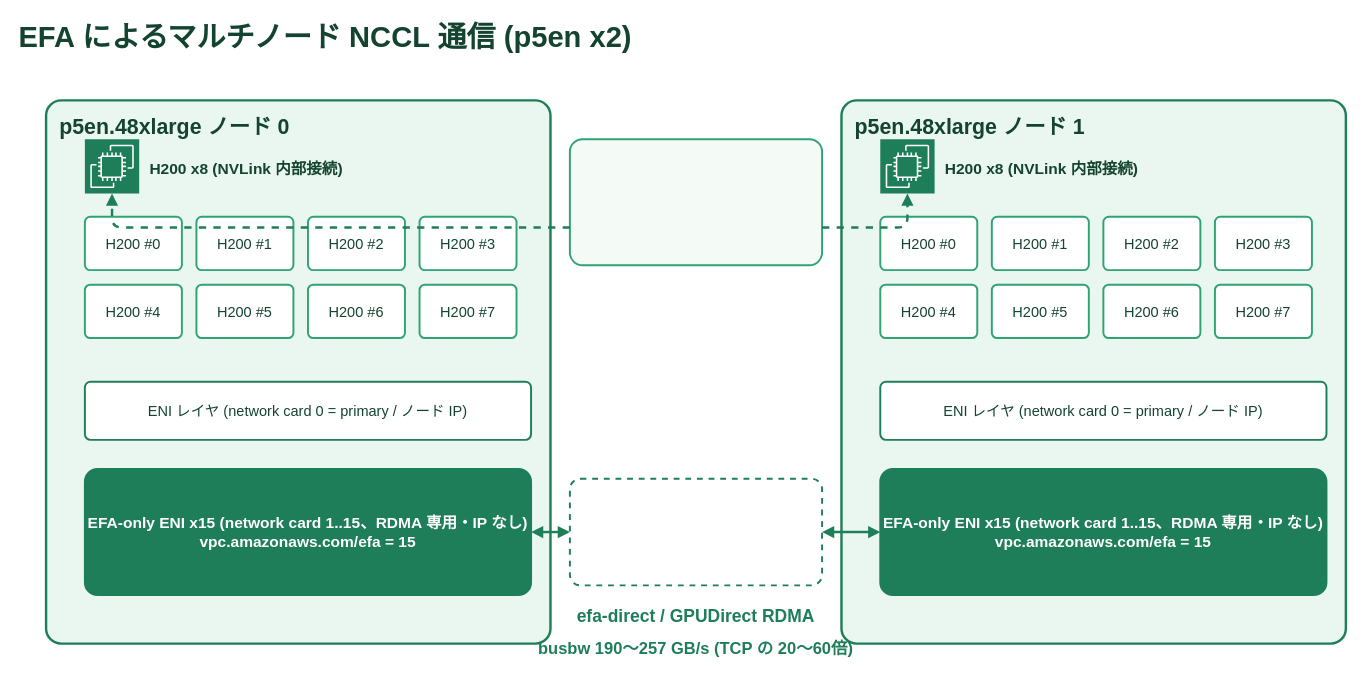
Some shapes in this 1364 by 679 pixel diagram are drawn without their labels. Each missing label, with the centre of its shape:
"EFA SG ingress + egress self-referencing (SRD トラフィック許可)" goes at (695,531).
"NCCL all-reduce collective 通信 NET/OFI Selected provider = efa" goes at (695,202).
